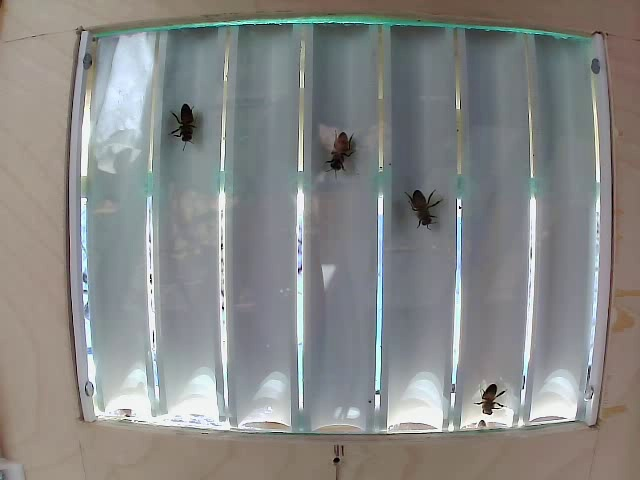bee: (402, 181, 445, 237), (169, 93, 207, 150), (325, 128, 365, 177), (478, 380, 514, 419)
